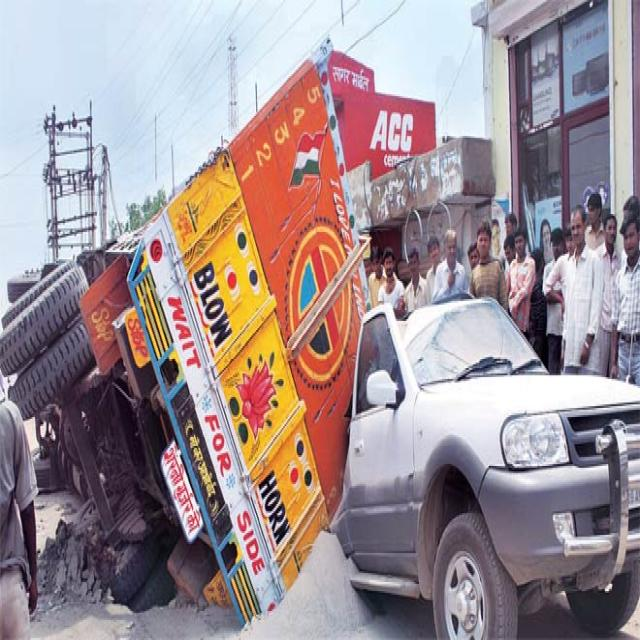accident: (0, 49, 366, 625), (332, 299, 640, 638)
